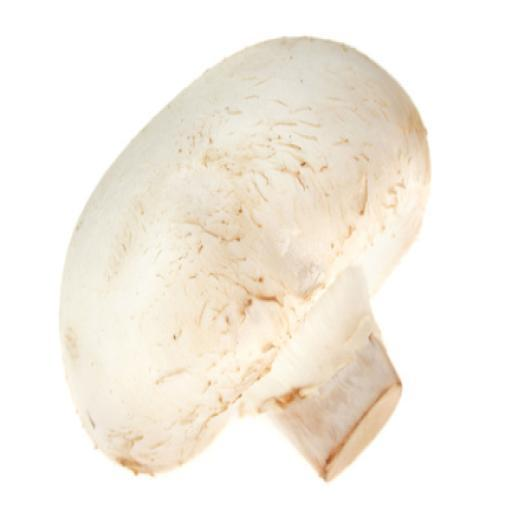mushroom: (56, 30, 436, 481)
